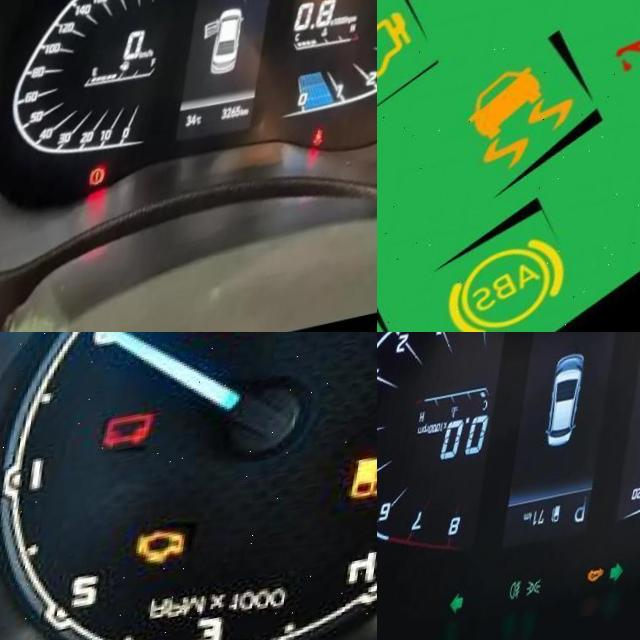Seat Belt: (326, 146, 339, 167)
